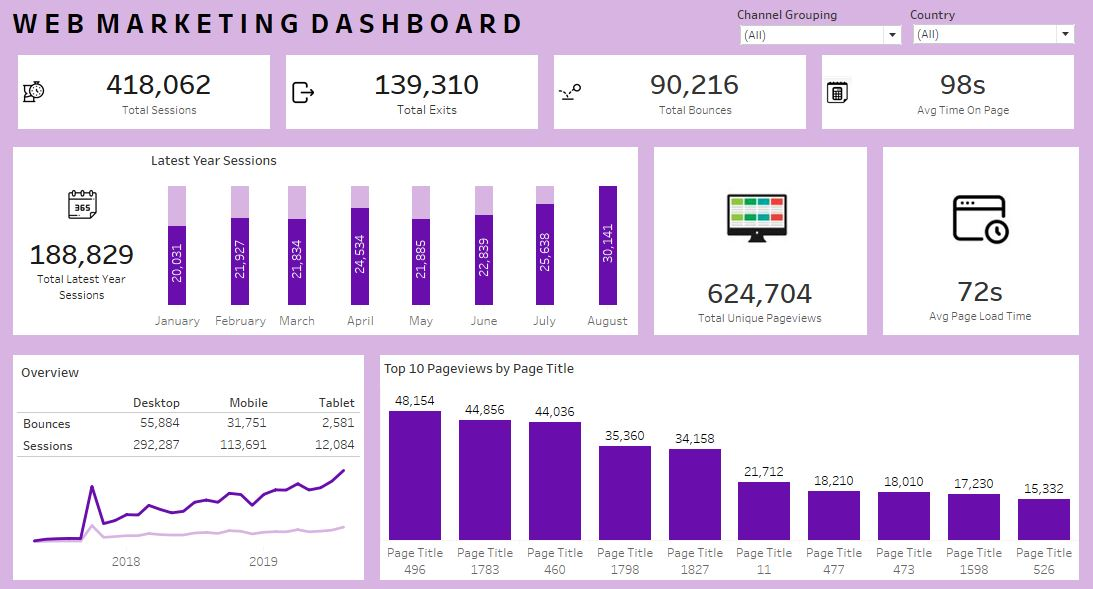

The dashboard page shown, as its layout file describes it:
{"tool":"tableau","page":{"name":"DASHBOARD","canvas":[1100,600],"ordinal":0},"visuals":[{"type":"blank","box":[0,0,1100,600]},{"type":"text","box":[14,11,518,36]},{"type":"filter","title":"SESSIONS","param":"[federated.0gx27zw0jgxssd1gn2mld0bkskr5].[none:Channel Grouping:nk]","box":[742,13,168,40]},{"type":"filter","title":"TOP 10 PAGEVIEWS","param":"[federated.0gx27zw0jgxssd1gn2mld0bkskr5].[none:Country:nk]","box":[915,13,168,39]},{"type":"image","param":"C:/Users/CENTDOOR LIMITED/Downloads/session.JPG","box":[15,54,39,90]},{"type":"worksheet","title":"SESSIONS","mark":"Automatic","box":[54,54,229,90]},{"type":"image","param":"C:/Users/CENTDOOR LIMITED/Downloads/exits.JPG","box":[283,54,39,90]},{"type":"worksheet","title":"EXITS","mark":"Automatic","box":[322,54,229,90]},{"type":"image","param":"C:/Users/CENTDOOR LIMITED/Downloads/bounce.JPG","box":[551,54,39,90]},{"type":"worksheet","title":"BOUNCES","mark":"Automatic","box":[590,54,229,90]},{"type":"image","param":"C:/Users/CENTDOOR LIMITED/Downloads/time on page.JPG","box":[819,54,39,90]},{"type":"worksheet","title":"TIME ON PAGE","mark":"Automatic","box":[858,54,229,90]},{"type":"worksheet","title":"BAR","mark":"Bar","rows":["Calculation_1463951363760926721","Sessions"],"cols":["Date"],"box":[152,146,499,204]},{"type":"blank","box":[18,154,134,32]},{"type":"blank","box":[659,154,213,32]},{"type":"blank","box":[888,154,196,32]},{"type":"image","param":"C:/Users/CENTDOOR LIMITED/Downloads/year.JPG","box":[18,186,134,52]},{"type":"image","param":"C:/Users/CENTDOOR LIMITED/Downloads/pageviews.JPG","box":[659,186,213,87]},{"type":"image","param":"C:/Users/CENTDOOR LIMITED/Downloads/load time.JPG","box":[888,186,196,83]},{"type":"worksheet","title":"BAR KPI","mark":"Text","box":[18,238,134,104]},{"type":"worksheet","title":"LOAD TIME","mark":"Automatic","box":[888,269,196,73]},{"type":"worksheet","title":"UNIQUE PAGEVIEWS","mark":"Automatic","box":[659,273,213,69]},{"type":"worksheet","title":"TOP 10 PAGEVIEWS","mark":"Automatic","rows":["Pageviews"],"cols":["Page Title"],"box":[377,354,715,241]},{"type":"worksheet","title":"LINE KPI","mark":"Automatic","cols":["Device Category"],"box":[18,362,351,106]},{"type":"worksheet","title":"LINE","mark":"Line","rows":["Bounces","Sessions"],"cols":["Date"],"box":[18,468,351,119]}]}

Visuals, with their boxes in screenshot pixels (x1, y1, x2, y2), scaled from the page's 1100x600 canvas onto the 1093x589 screenshot:
blank: bbox=[0, 0, 1092, 588]
text: bbox=[14, 11, 529, 46]
"SESSIONS" filter: bbox=[737, 13, 904, 52]
"TOP 10 PAGEVIEWS" filter: bbox=[909, 13, 1076, 51]
image: bbox=[15, 53, 54, 141]
"SESSIONS" worksheet: bbox=[54, 53, 281, 141]
image: bbox=[281, 53, 320, 141]
"EXITS" worksheet: bbox=[320, 53, 547, 141]
image: bbox=[547, 53, 586, 141]
"BOUNCES" worksheet: bbox=[586, 53, 814, 141]
image: bbox=[814, 53, 853, 141]
"TIME ON PAGE" worksheet: bbox=[853, 53, 1080, 141]
"BAR" worksheet (Bar marks): bbox=[151, 143, 647, 344]
blank: bbox=[18, 151, 151, 183]
blank: bbox=[655, 151, 866, 183]
blank: bbox=[882, 151, 1077, 183]
image: bbox=[18, 183, 151, 234]
image: bbox=[655, 183, 866, 268]
image: bbox=[882, 183, 1077, 264]
"BAR KPI" worksheet (Text marks): bbox=[18, 234, 151, 336]
"LOAD TIME" worksheet: bbox=[882, 264, 1077, 336]
"UNIQUE PAGEVIEWS" worksheet: bbox=[655, 268, 866, 336]
"TOP 10 PAGEVIEWS" worksheet: bbox=[375, 348, 1085, 584]
"LINE KPI" worksheet: bbox=[18, 355, 367, 459]
"LINE" worksheet (Line marks): bbox=[18, 459, 367, 576]
